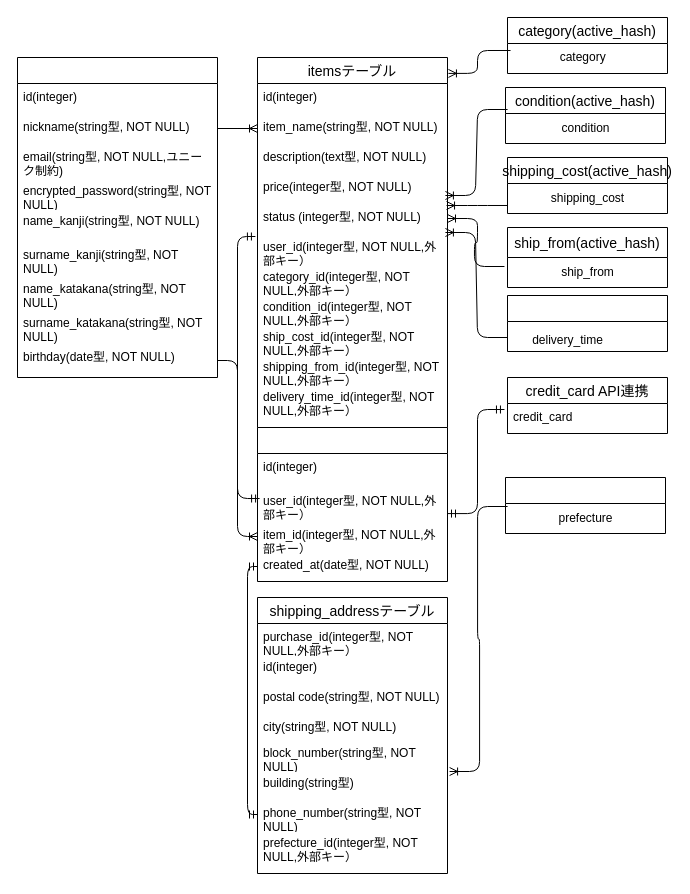
This 690x894 diagram has some shape labels left out. Each missing label, with the box of its shape:
delivery_time(active_hash): (506, 294, 668, 352)
prefecture(active_hash): (504, 476, 666, 534)
purchasesテーブル: (256, 426, 448, 582)
usersテーブル: (16, 56, 218, 378)
